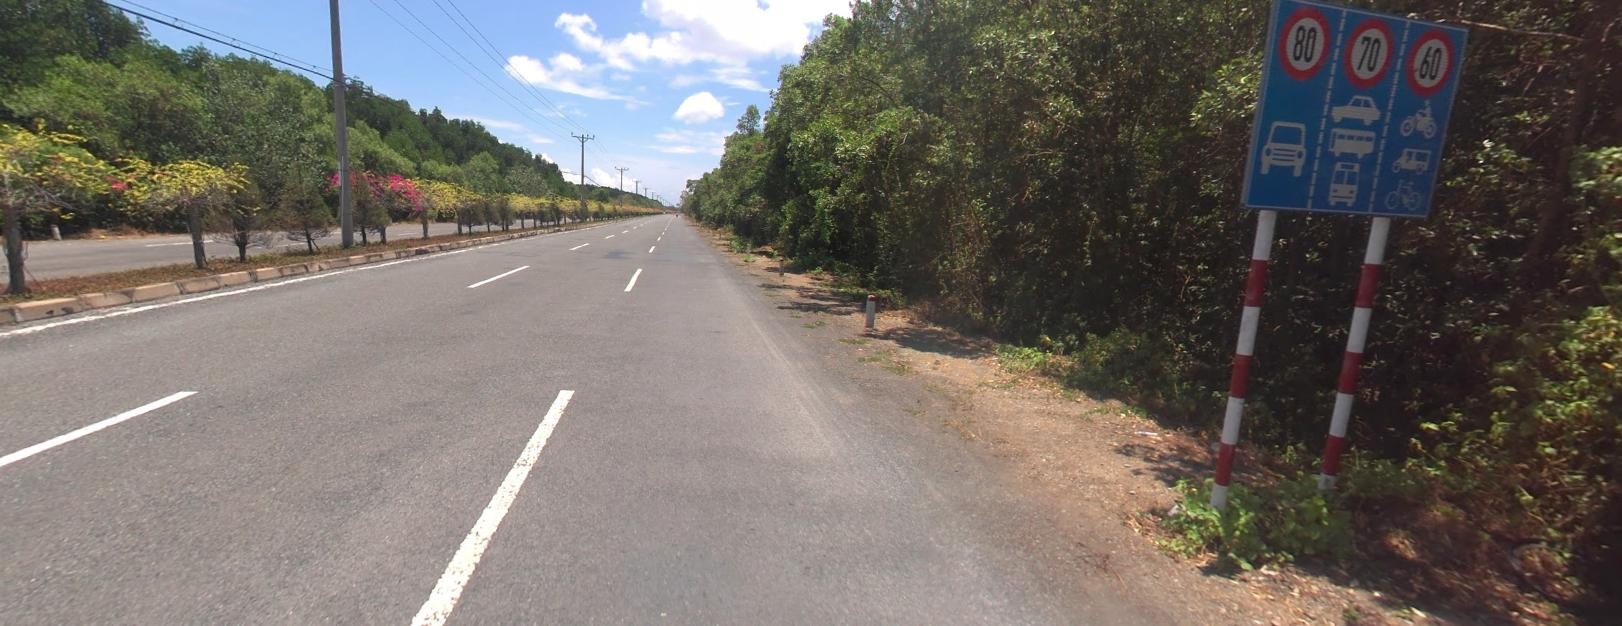Gioi han toc do: (1278, 6, 1330, 81), (1345, 18, 1392, 87), (1406, 29, 1454, 93)
